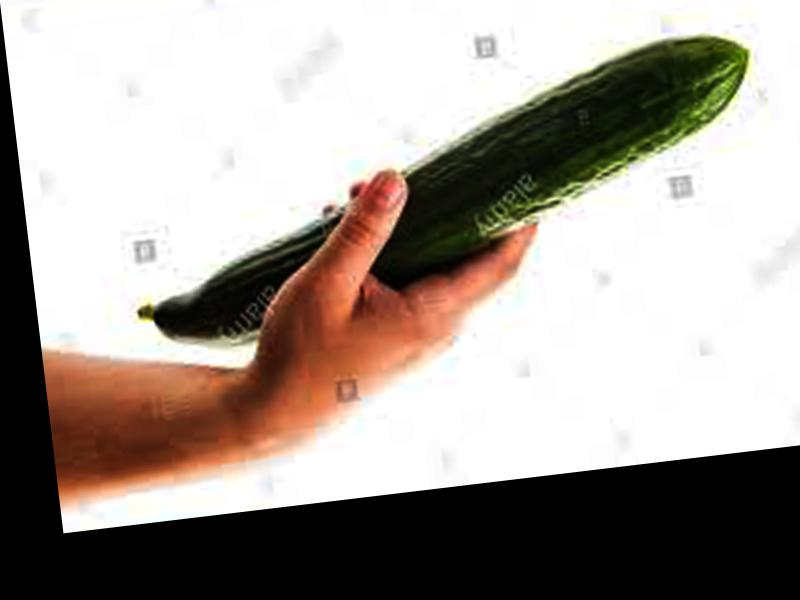Cucumber: (110, 29, 776, 356)
